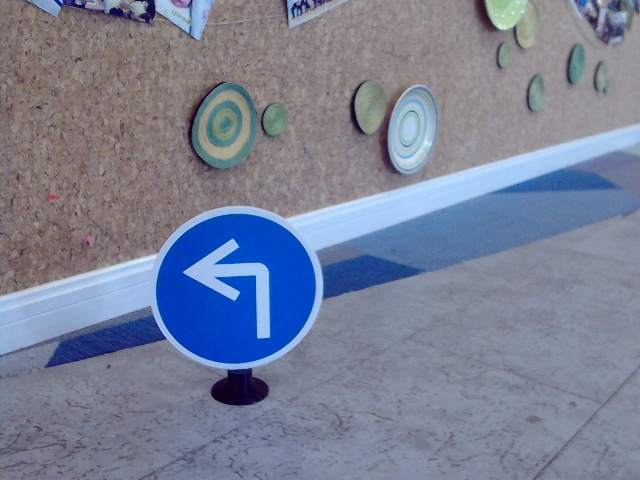turn_left: (179, 238, 277, 339)
